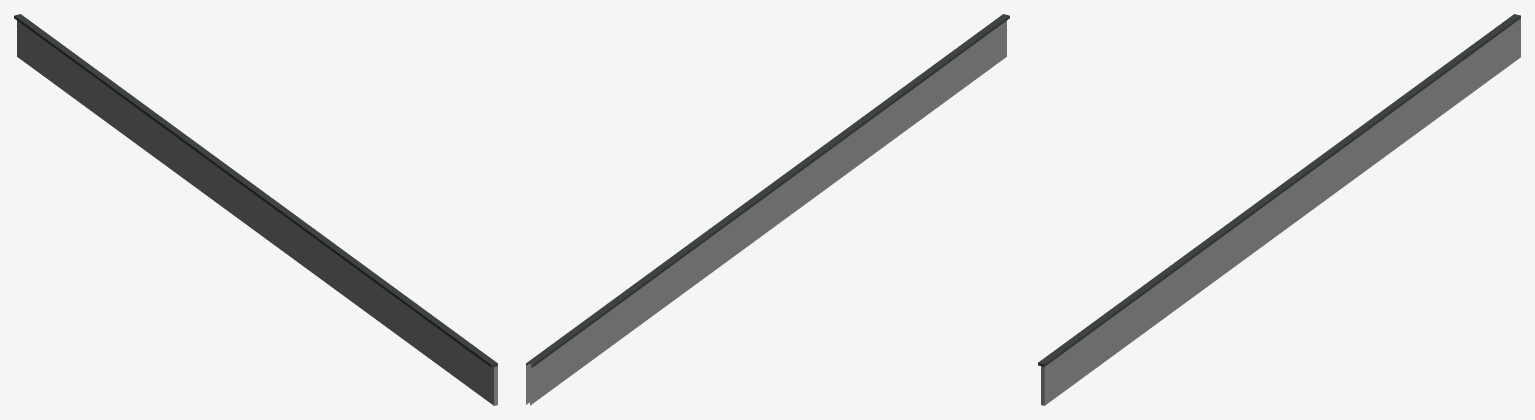
Rendered from env_platform_1_wall_1.fbx.
3 views of the same model, side by side, from view 1: azimuth 30°, elevation 25°; view 2: azimuth 150°, elevation 25°; view 3: azimuth 330°, elevation 25° (orthographic).
Visible parts, largest first — view 1: platform_1_wall_1; view 2: platform_1_wall_1; view 3: platform_1_wall_1.
Boxes of the visible parts, <box> form: platform_1_wall_1: <box>14,14,497,405</box>; platform_1_wall_1: <box>526,14,1009,405</box>; platform_1_wall_1: <box>1038,14,1520,405</box>.
Bounding box in the file's own units: 70.56 × 428 × 8869.
1 material, 1 textured.
